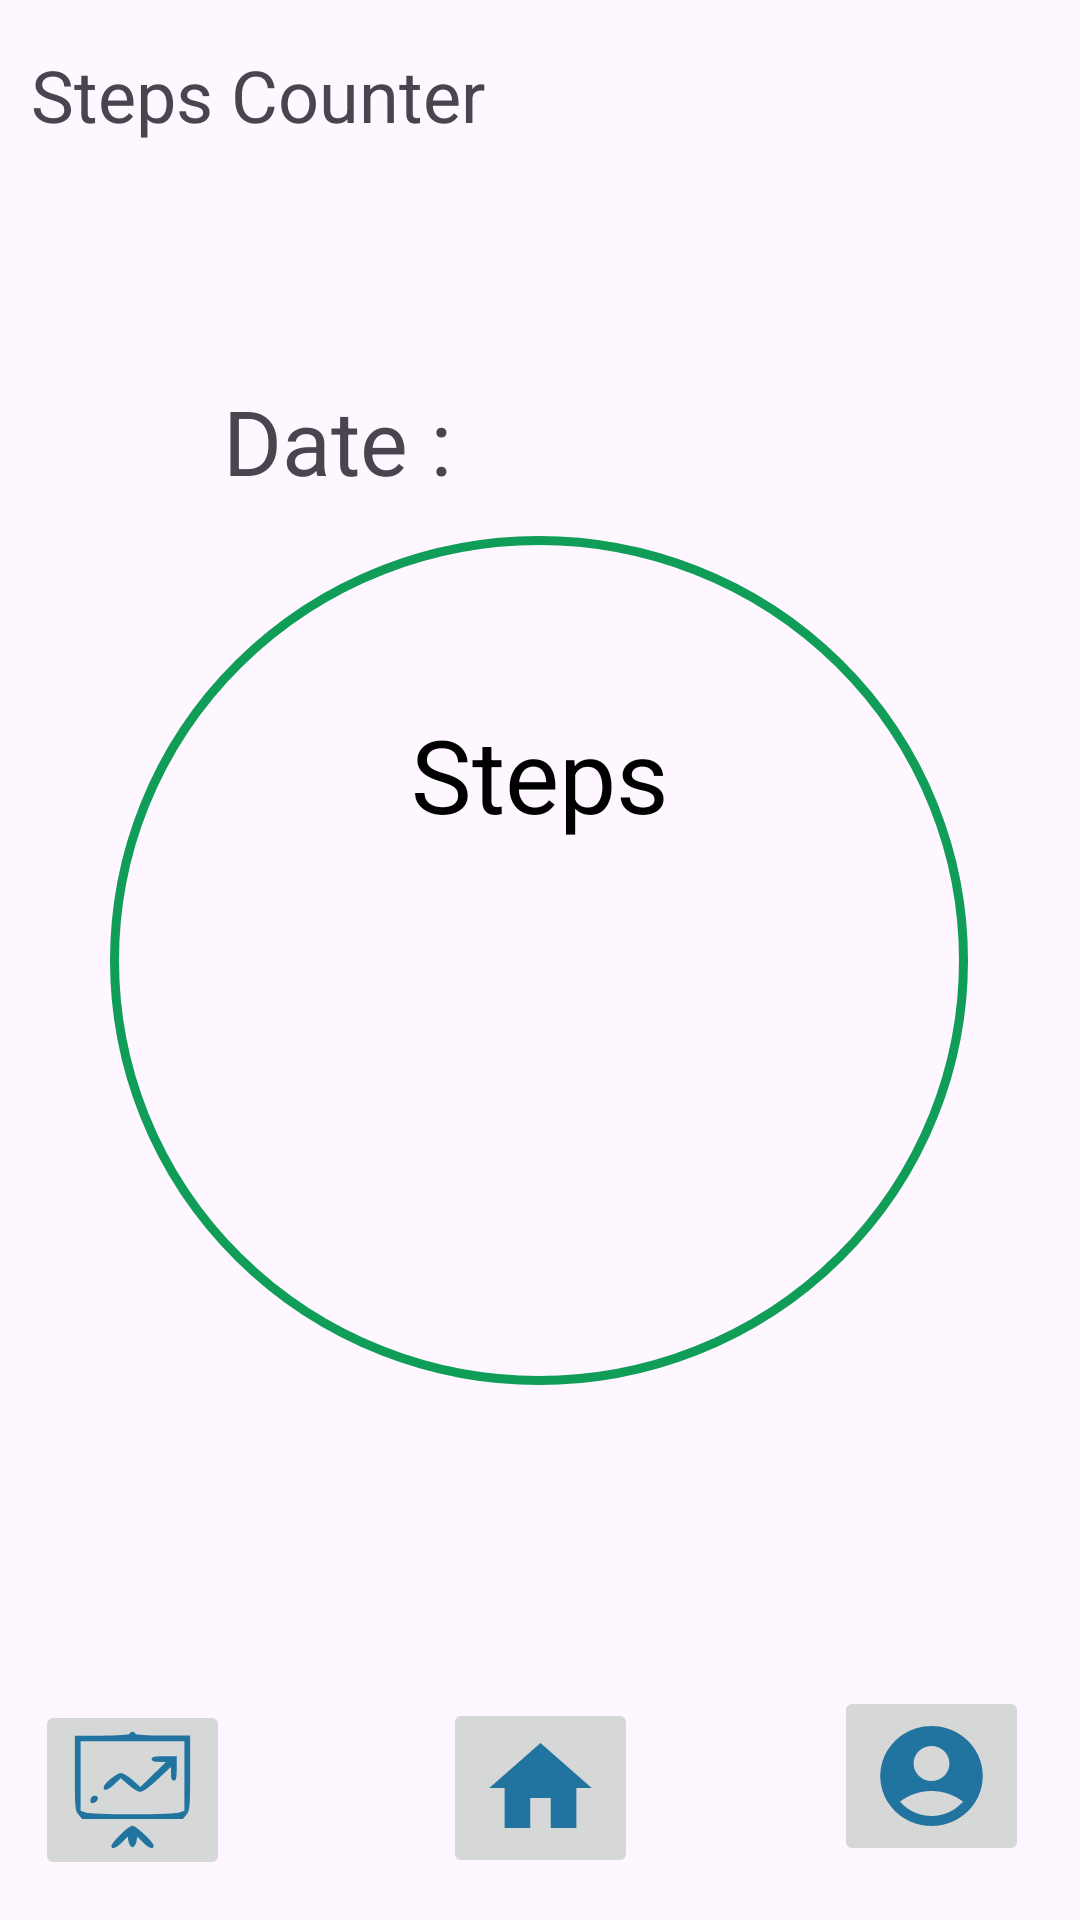

Icon bounding boxes for this 1080px x 1920px phone screenshot, format [x1=x1, y1=y1, x2=x2, y2=y2]:
account circle: [x1=846, y1=1704, x2=1017, y2=1848]
home: [x1=455, y1=1716, x2=626, y2=1860]
statistics: [x1=47, y1=1718, x2=218, y2=1862]
